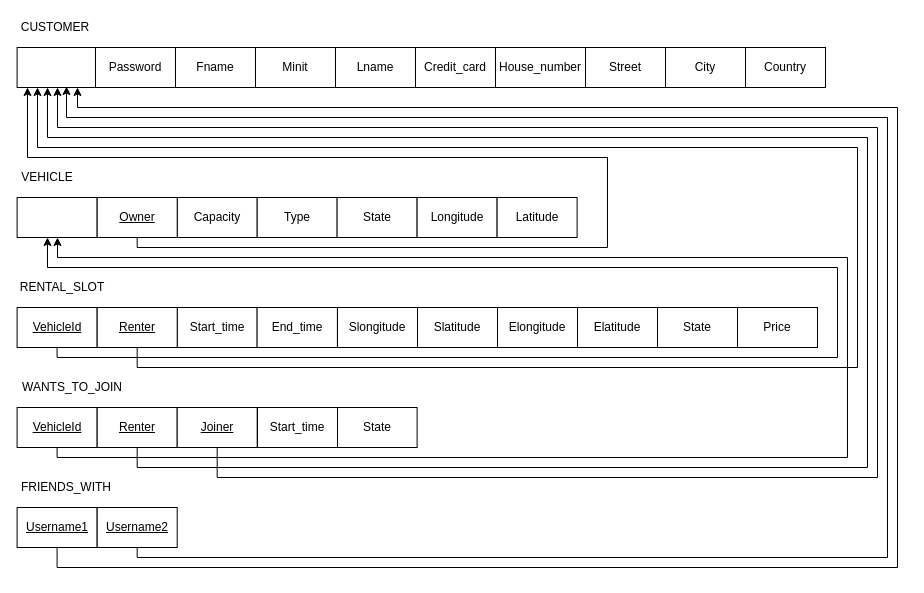
This 924x593 diagram has some shape labels left out. Each missing label, with the centre of its shape:
"Id" belongs at point (56, 217).
"Username" belongs at point (56, 67).
